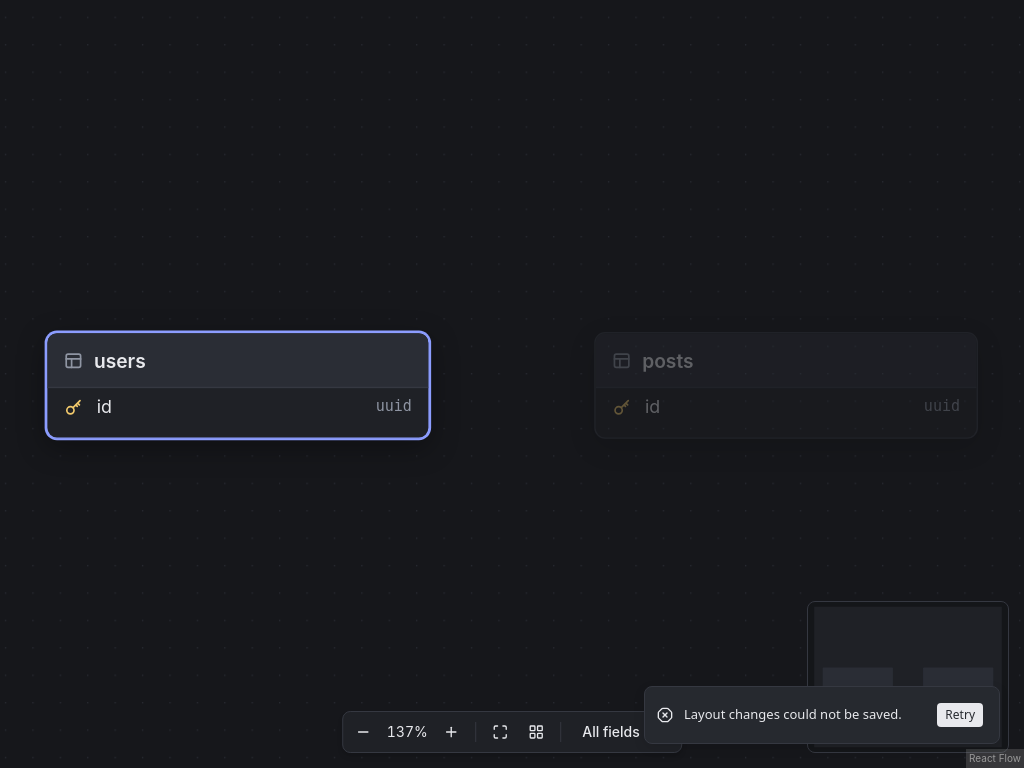
Test: DiagramCanvas layout feedback › shows one notice for repeated save failures and removes it once a save works
Expected: the text "Layout changes could not be saved." is shown, [684, 705, 902, 725]
Step 1. Click the button named "Rearrange all tables" → click(536, 732), box [520, 716, 552, 748]
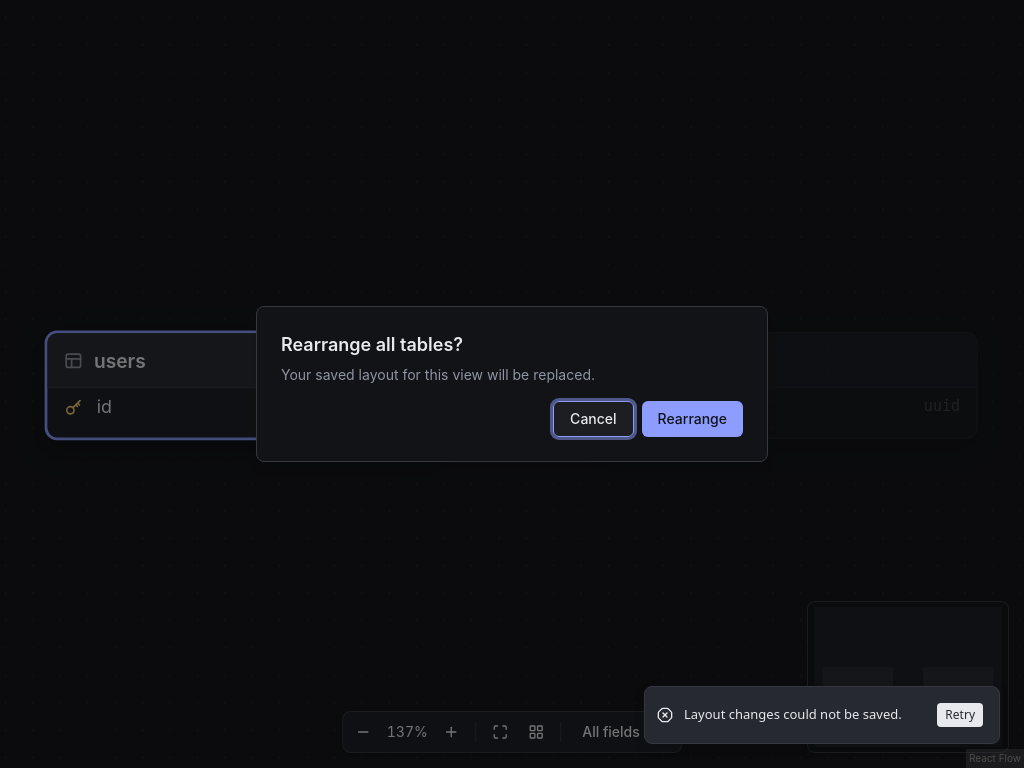
Step 2. Click the button "Rearrange" → click(692, 419), box [642, 401, 743, 437]
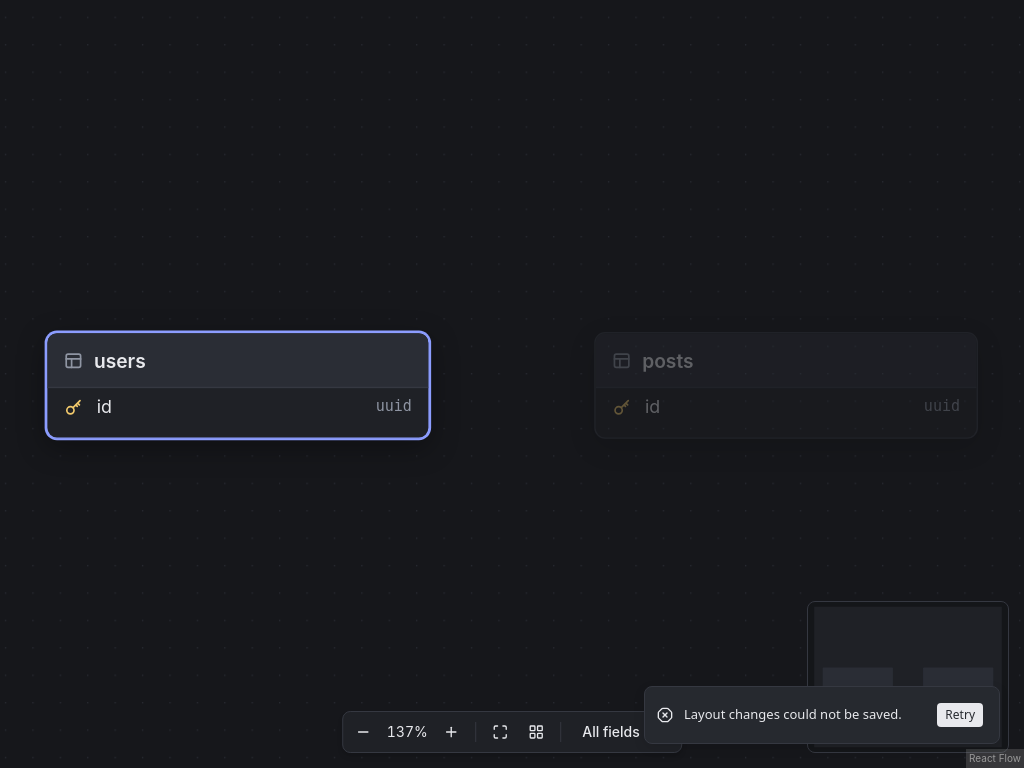
Expected: the text "Layout changes could not be saved." is shown once, [684, 705, 902, 725]
Step 3. Click the button named "Rearrange all tables" → click(536, 732), box [520, 716, 552, 748]
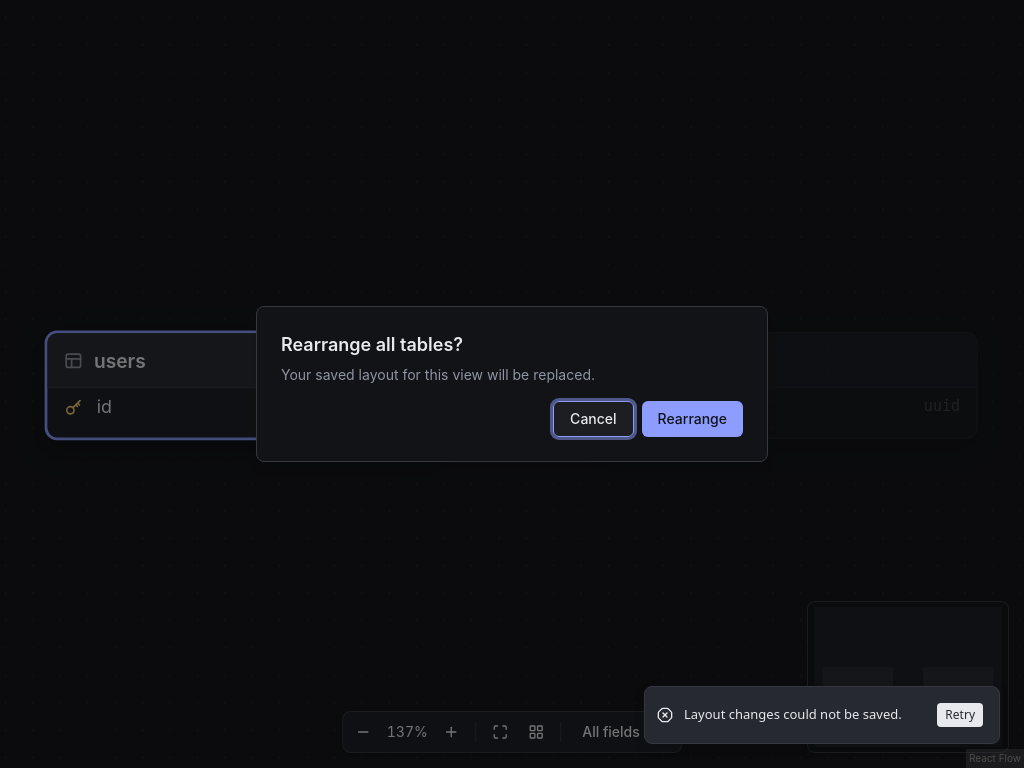
Step 4. Click the button "Rearrange" → click(692, 419), box [642, 401, 743, 437]
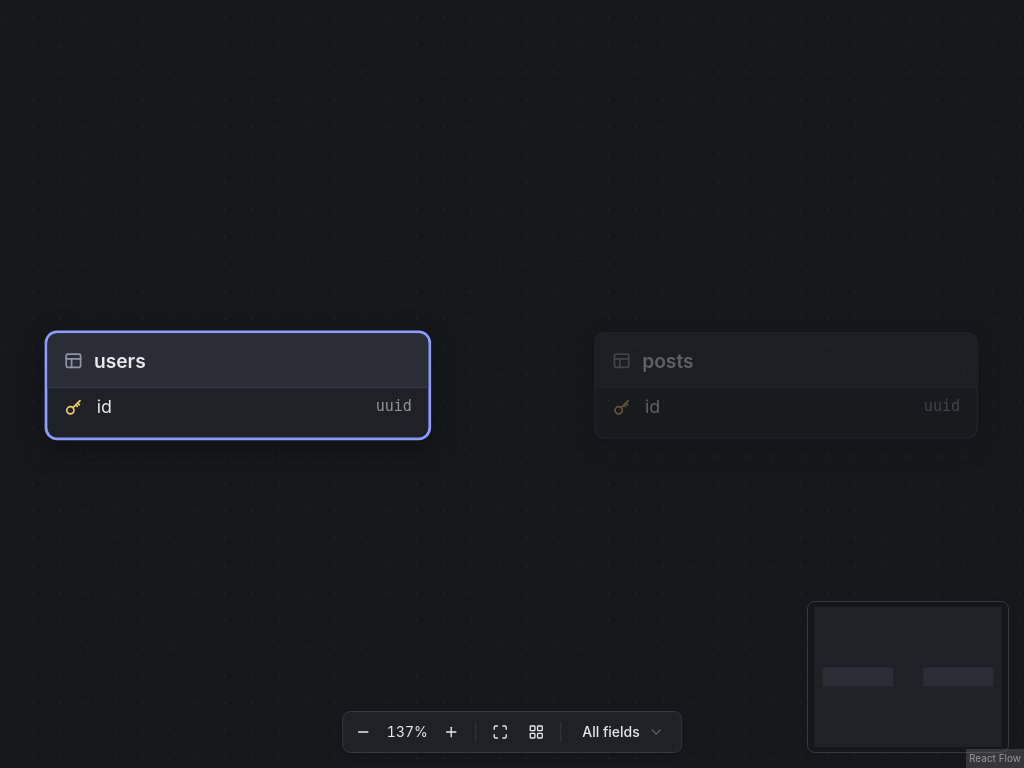
Expected: the text "Layout changes could not be saved." is gone
